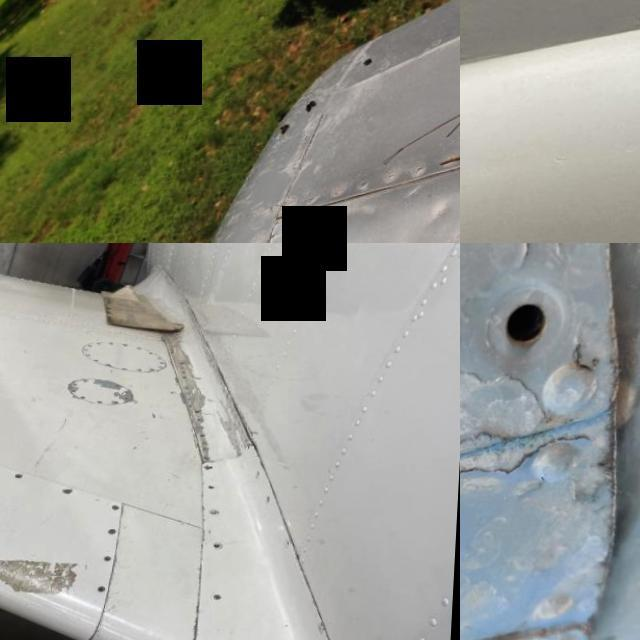Crack: (215, 364, 242, 406), (202, 336, 218, 356)
Missing_Fastener: (482, 274, 580, 376), (213, 511, 226, 520), (216, 544, 227, 553), (102, 588, 112, 596), (108, 558, 118, 566), (288, 543, 294, 552), (270, 499, 276, 508), (211, 488, 221, 493), (18, 475, 28, 480), (207, 468, 218, 472)
